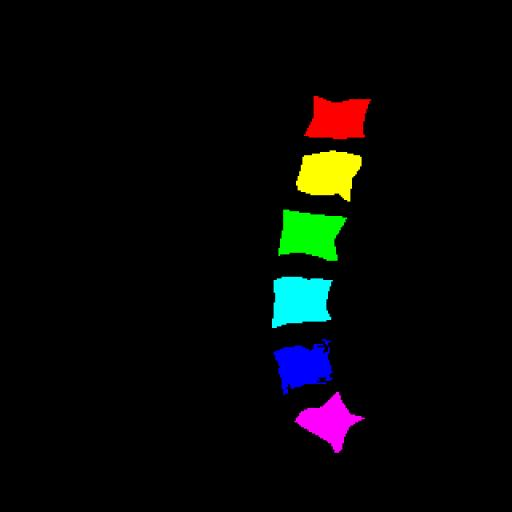L1: (305, 96, 371, 138)
L2: (296, 150, 362, 202)
L3: (278, 209, 347, 261)
L4: (272, 277, 332, 328)
L5: (274, 340, 332, 394)
S1: (295, 392, 364, 453)
